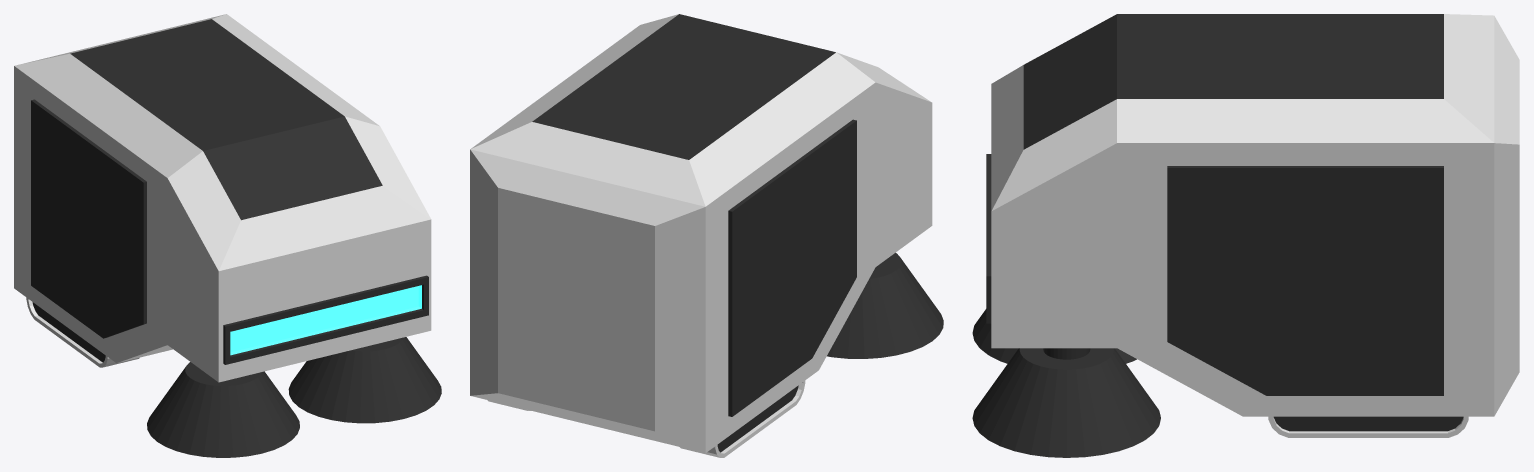
The model's file is cleaninRobot.fbx.
The picture shows the model from 3 angles, left to right: view 1: azimuth 30°, elevation 25°; view 2: azimuth 150°, elevation 25°; view 3: azimuth 270°, elevation 25°; orthographic projection. The views are drawn at different scales.
Parts seen in each view (by area): view 1: Robot, brosseDroite, brosseGauche; view 2: Robot, brosseDroite; view 3: Robot, brosseGauche, brosseDroite.
Part boxes in pixels (x1=…): Robot: x1=14, y1=14, x2=431, y2=382; brosseDroite: x1=147, y1=362, x2=299, y2=457; brosseGauche: x1=288, y1=337, x2=441, y2=423; Robot: x1=470, y1=14, x2=932, y2=457; brosseDroite: x1=827, y1=252, x2=943, y2=358; Robot: x1=986, y1=14, x2=1519, y2=437; brosseGauche: x1=972, y1=348, x2=1160, y2=457; brosseDroite: x1=972, y1=309, x2=1136, y2=363.
Size of the model in its own units: 155 by 140 by 217.
